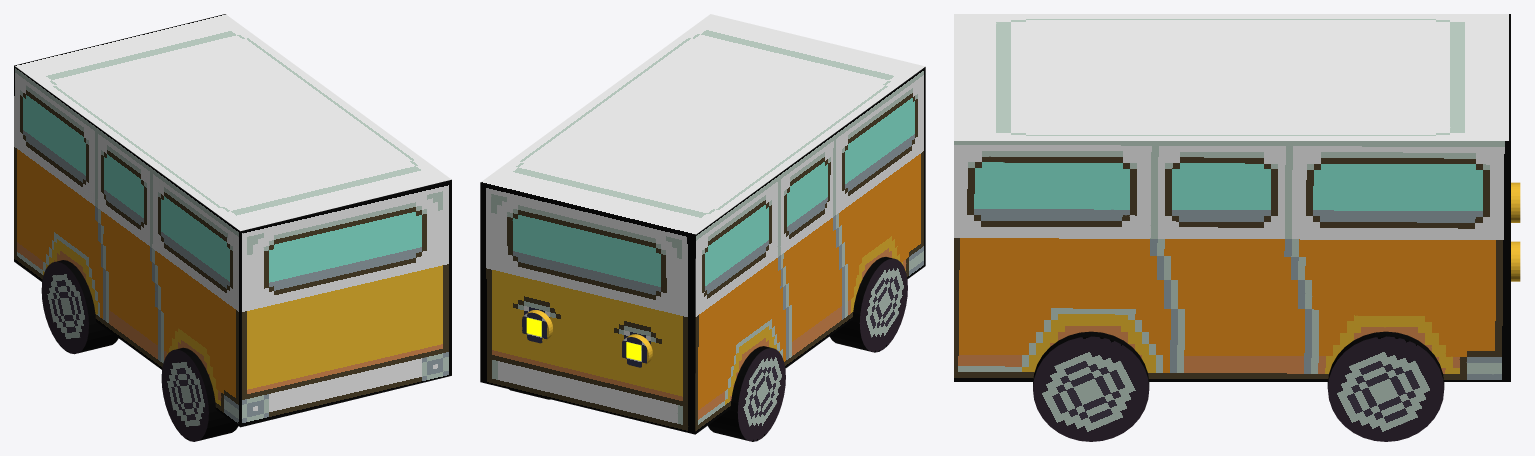
Rendered from bus.glb.
3 views of the same model, side by side, from view 1: azimuth 30°, elevation 25°; view 2: azimuth 150°, elevation 25°; view 3: azimuth 270°, elevation 25° (orthographic). The views are drawn at different scales.
Visible parts, largest first — view 1: 立方体.001, wheel, wheel.001; view 2: 立方体.001, wheel, wheel.001, 柱体, 柱体.001; view 3: 立方体.001, wheel.002, wheel.003.
Part boxes in pixels (x1,y1,x2,y2): 立方体.001: (14,14,451,427); wheel: (41,260,118,354); wheel.001: (161,347,238,441); 立方体.001: (480,14,925,434); wheel: (708,346,785,441); wheel.001: (829,257,907,352); 柱体: (520,310,552,343); 柱体.001: (620,334,652,367); 立方体.001: (954,14,1510,381); wheel.002: (1327,331,1444,441); wheel.003: (1033,331,1149,441).
Size of the model in its own units: 1.1 by 1.12 by 1.95.
2 materials, 1 textured.
